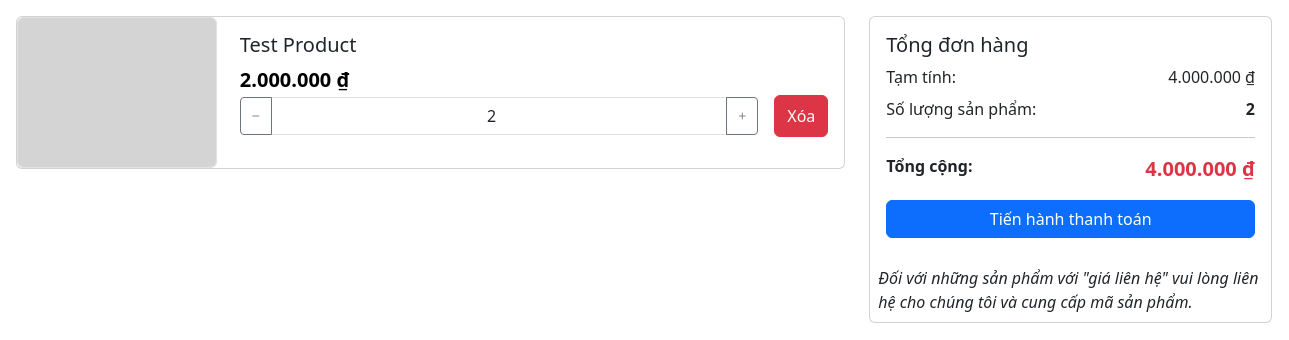
Test case: Cart Component › should update quantity when clicking minus button
The width and height of the screenshot is (1289, 340).
Click the button with test id "minus".
click(256, 116)  # box [240, 97, 272, 135]
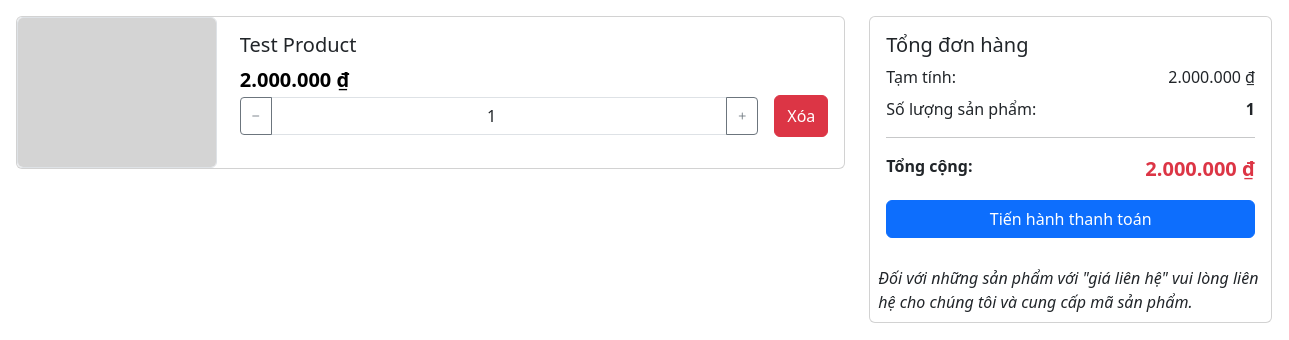
Expected: the number field showing "1" is shown, [271, 97, 727, 135]
